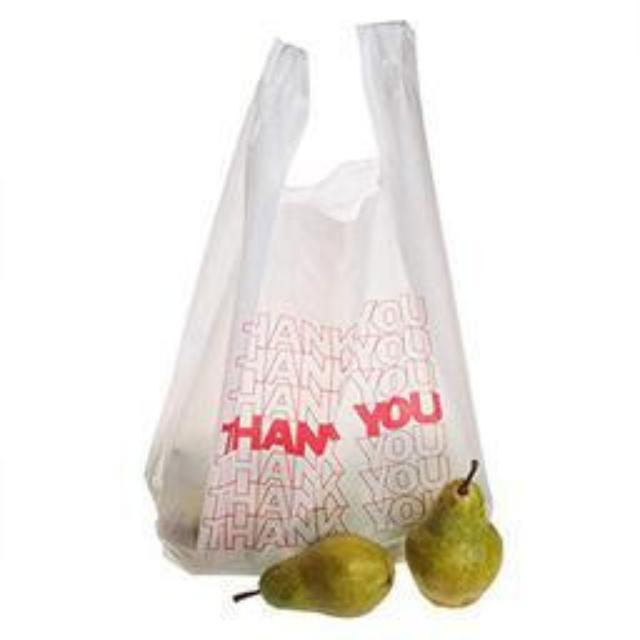Bolsa-de-plastico: (145, 24, 494, 574)
